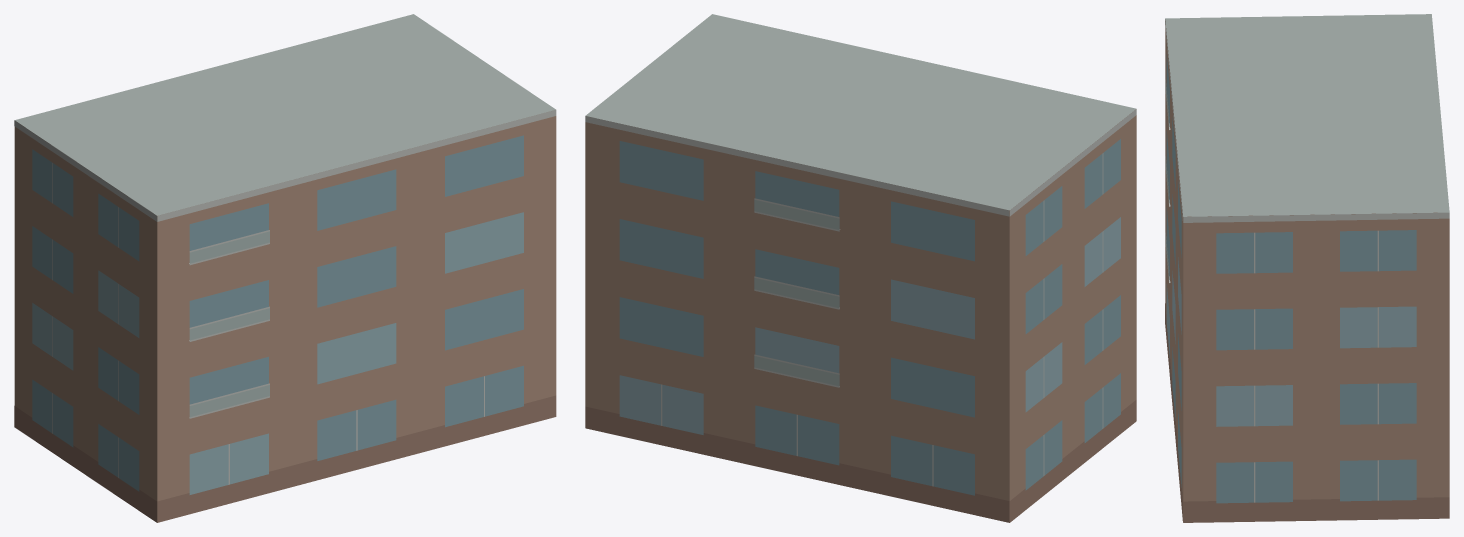
The model's file is residential-bd0dd353-7590-409d-88ff-7abf2ea733eb.glb.
The picture shows the model from 3 angles, left to right: view 1: azimuth 30°, elevation 25°; view 2: azimuth 150°, elevation 25°; view 3: azimuth 270°, elevation 25°; orthographic projection. The views are drawn at different scales.
Parts seen in each view (by area): view 1: residential-bd0dd353-7590-409d-88ff-7abf2ea733eb.tmp; view 2: residential-bd0dd353-7590-409d-88ff-7abf2ea733eb.tmp; view 3: residential-bd0dd353-7590-409d-88ff-7abf2ea733eb.tmp.
Boxes of the visible parts, left/top/right/bottom form: residential-bd0dd353-7590-409d-88ff-7abf2ea733eb.tmp: left=14, top=14, right=556, bottom=522; residential-bd0dd353-7590-409d-88ff-7abf2ea733eb.tmp: left=585, top=14, right=1136, bottom=522; residential-bd0dd353-7590-409d-88ff-7abf2ea733eb.tmp: left=1165, top=14, right=1449, bottom=522.
Bounding box in the file's own units: 17.35 × 12.2 × 10.29.
